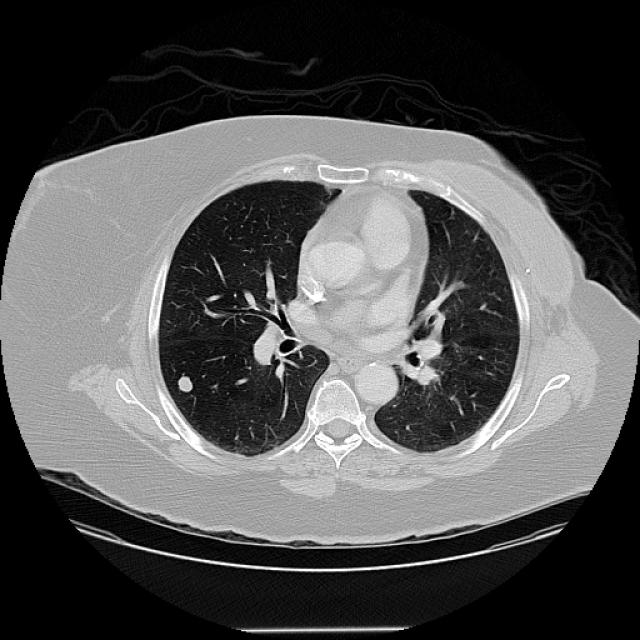nodule: (165, 365, 203, 403)
